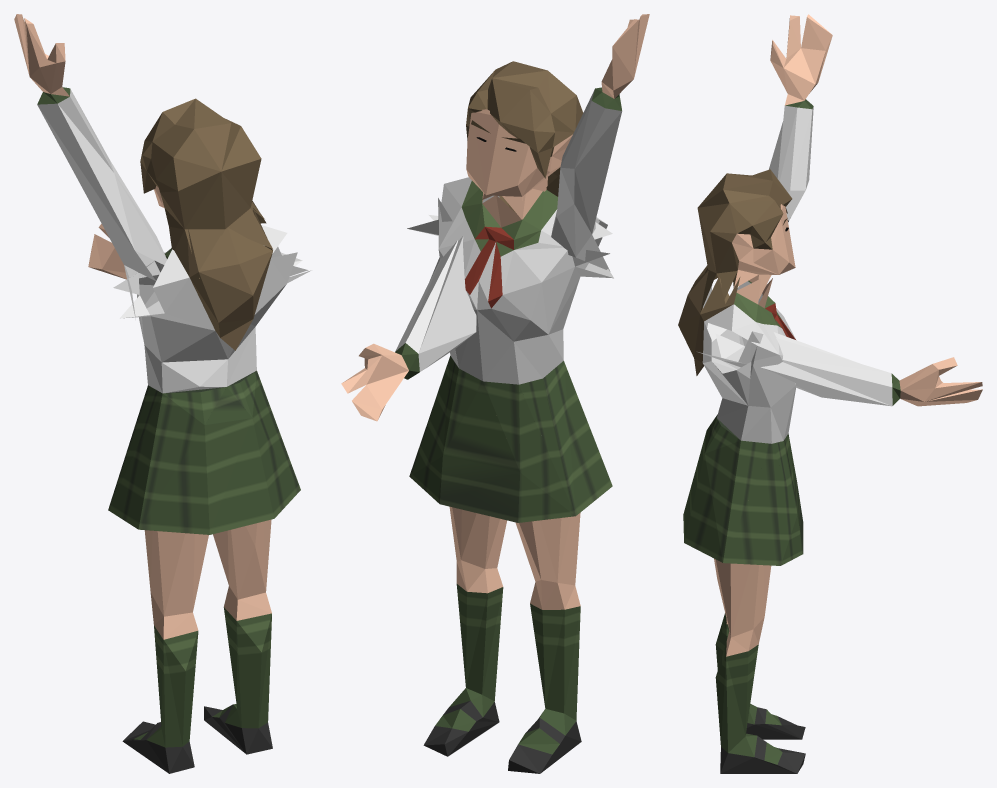
The model's file is Cousin_Twirl.obj.
3 views of the same model, side by side, from view 1: azimuth 30°, elevation 25°; view 2: azimuth 150°, elevation 25°; view 3: azimuth 270°, elevation 25° (orthographic). The views are drawn at different scales.
Visible parts, largest first — view 1: Cousin_Twirl; view 2: Cousin_Twirl; view 3: Cousin_Twirl.
Boxes of the visible parts, x1=… form: Cousin_Twirl: x1=14, y1=14, x2=311, y2=773; Cousin_Twirl: x1=341, y1=14, x2=649, y2=773; Cousin_Twirl: x1=678, y1=14, x2=982, y2=773.
Size of the model in its own units: 0.7585 by 2.14 by 0.8821.
1 material, 1 textured.
